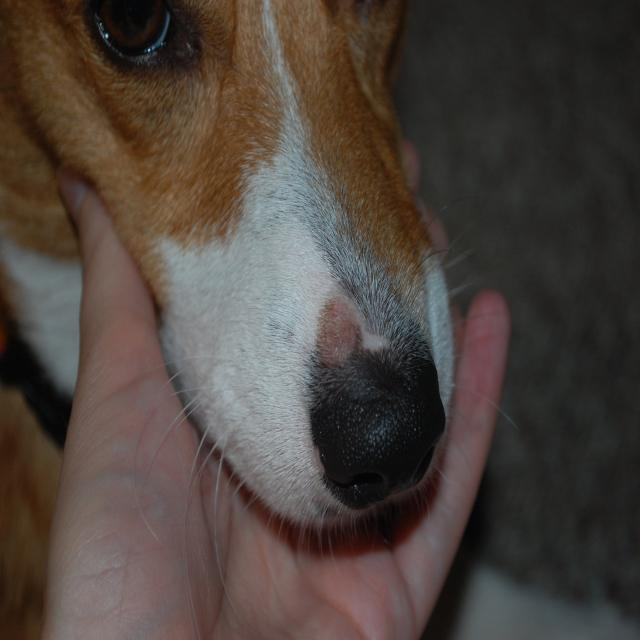fungal infection: (312, 294, 367, 366)
